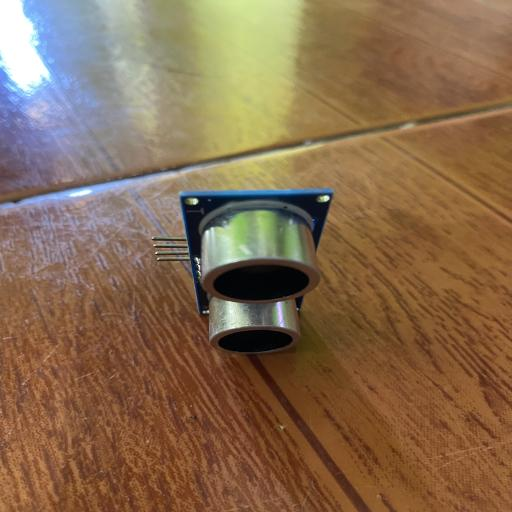Ultrasonic Sensor: (152, 186, 335, 354)
